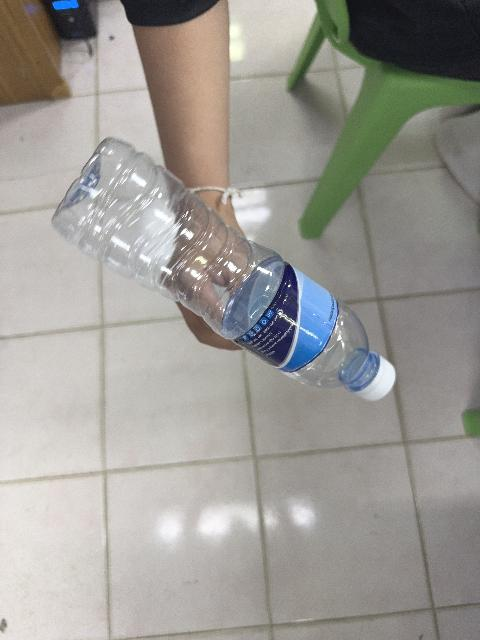bottle: (53, 139, 395, 399)
